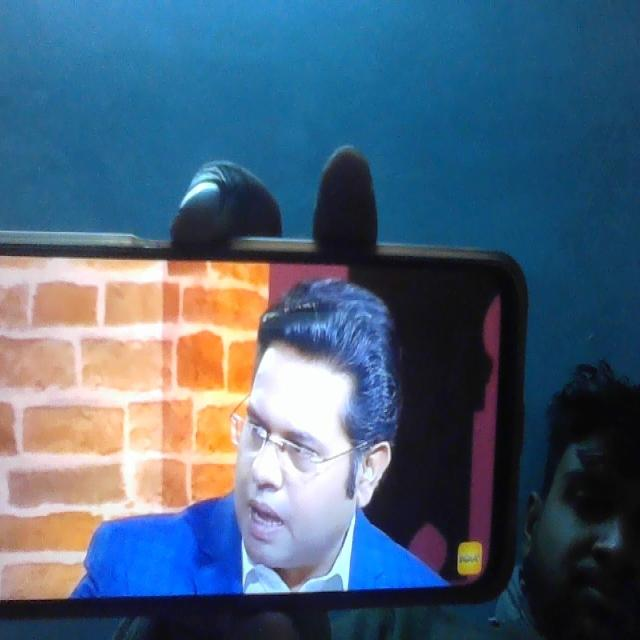fake: (226, 291, 379, 580)
